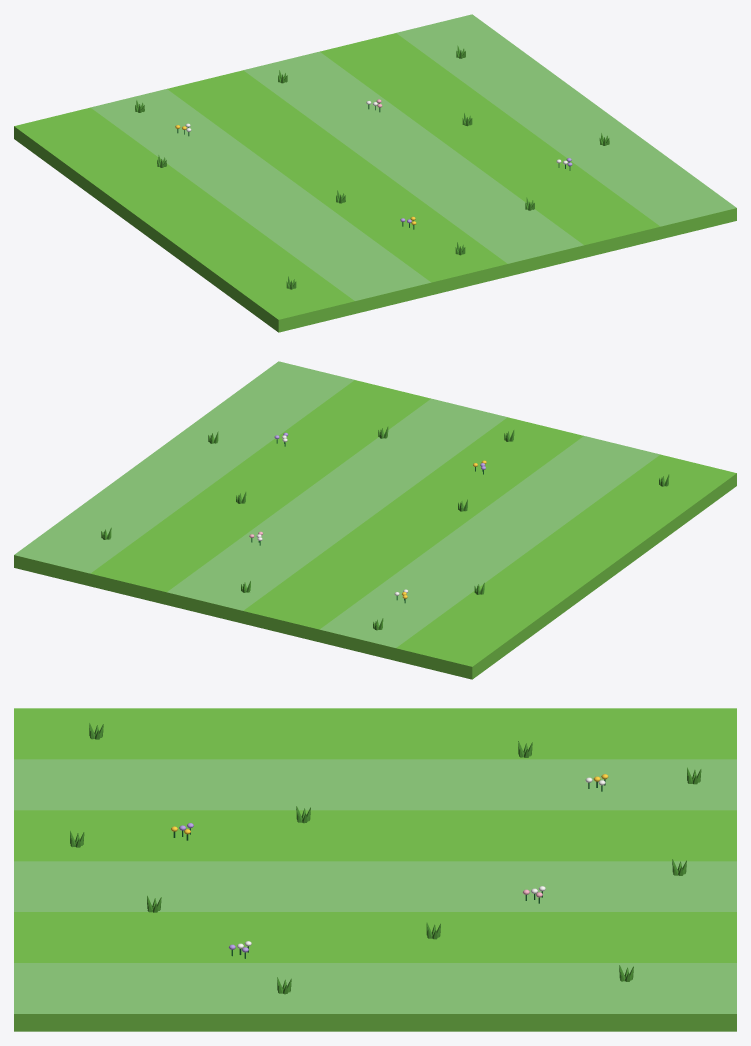
The model's file is piso_grama.glb.
3 renders of one model, top to bottom at view 1: azimuth 30°, elevation 25°; view 2: azimuth 150°, elevation 25°; view 3: azimuth 270°, elevation 25°, orthographic. The views are drawn at different scales.
Parts seen in each view (by area): view 1: piso_grama; view 2: piso_grama; view 3: piso_grama.
Part boxes in pixels (x1,y1,x2,y2): piso_grama: (14,14,736,332); piso_grama: (14,361,736,679); piso_grama: (14,708,736,1031).
Bounding box in the file's own units: 15 × 0.6919 × 15.
Materials: 1 (1 with a texture image).
